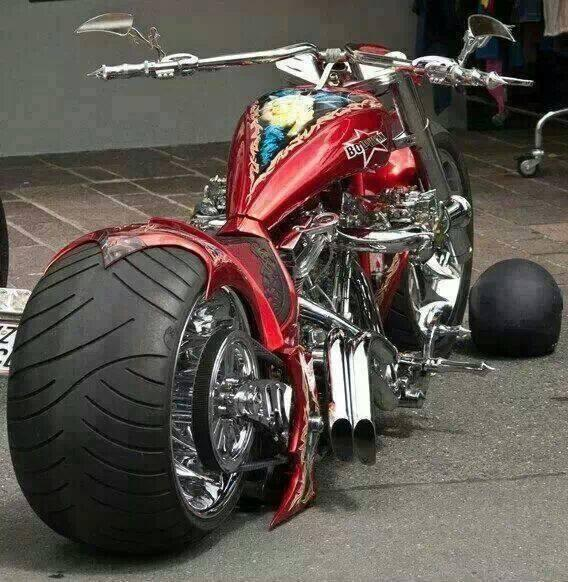Motorcycle: (15, 14, 522, 472)
